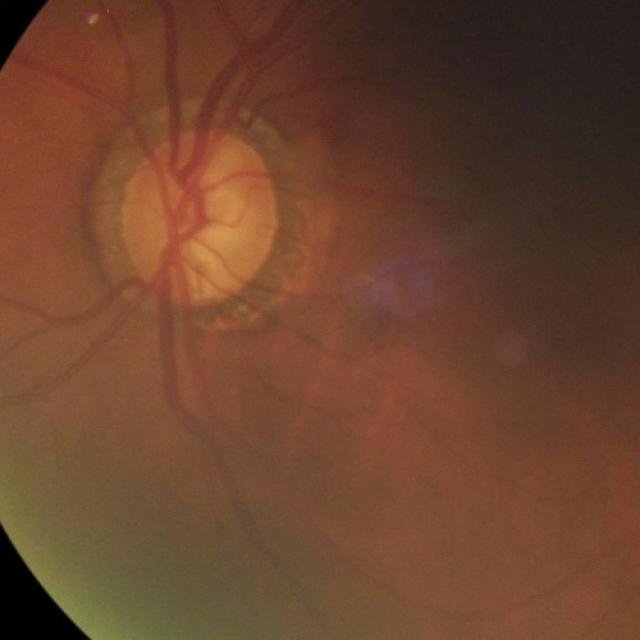OC: (190, 188, 246, 243)
OD: (117, 126, 279, 309)
